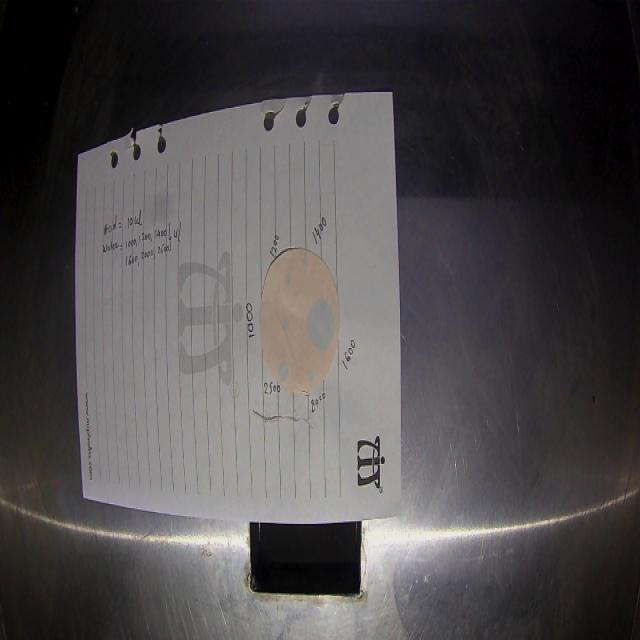BlueColor: (307, 299, 335, 349), (278, 363, 289, 381), (281, 317, 289, 331), (307, 372, 315, 381), (285, 275, 291, 287), (302, 256, 307, 265)
